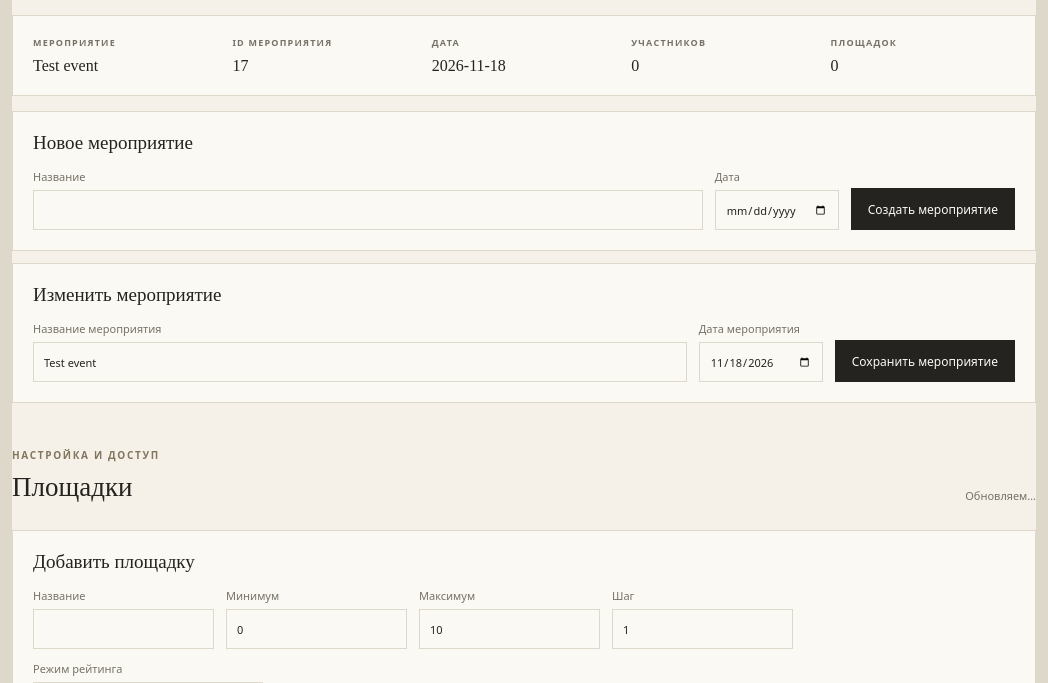
Test: WorkspacePage › allows a system administrator to update the selected event
(page scrolled)
Replace the text in the field labelled "Название мероприятия" with "Updated event" at {"x": 360, "y": 362}, box [33,342,687,382]
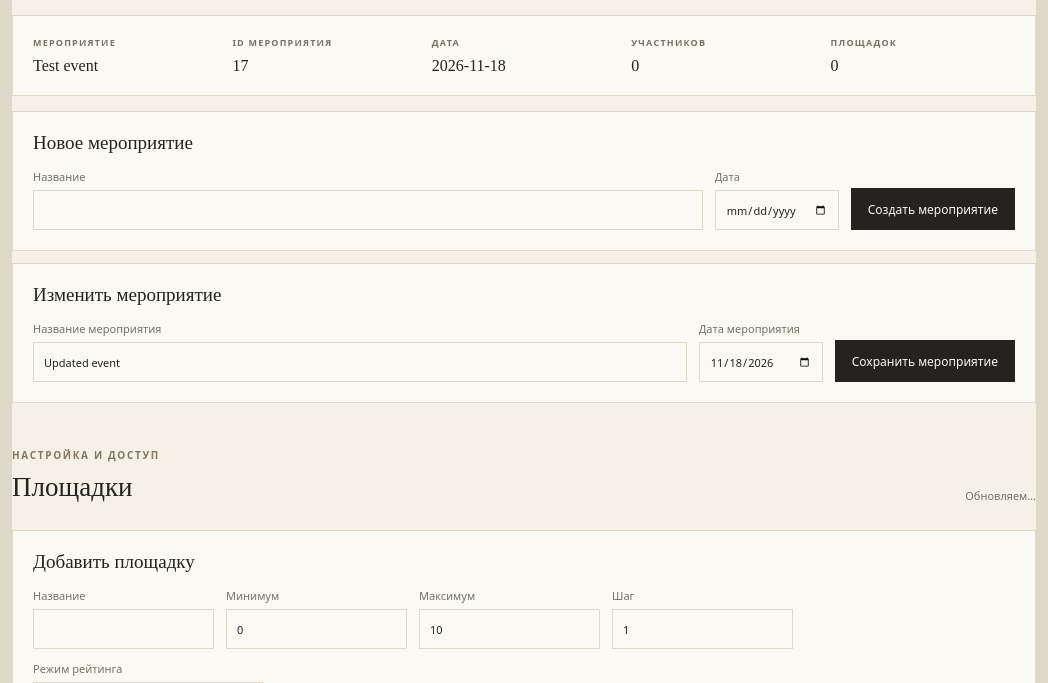
Submit the form "Сохранить мероприятие", box [12,263,1036,403]
(page scrolled)
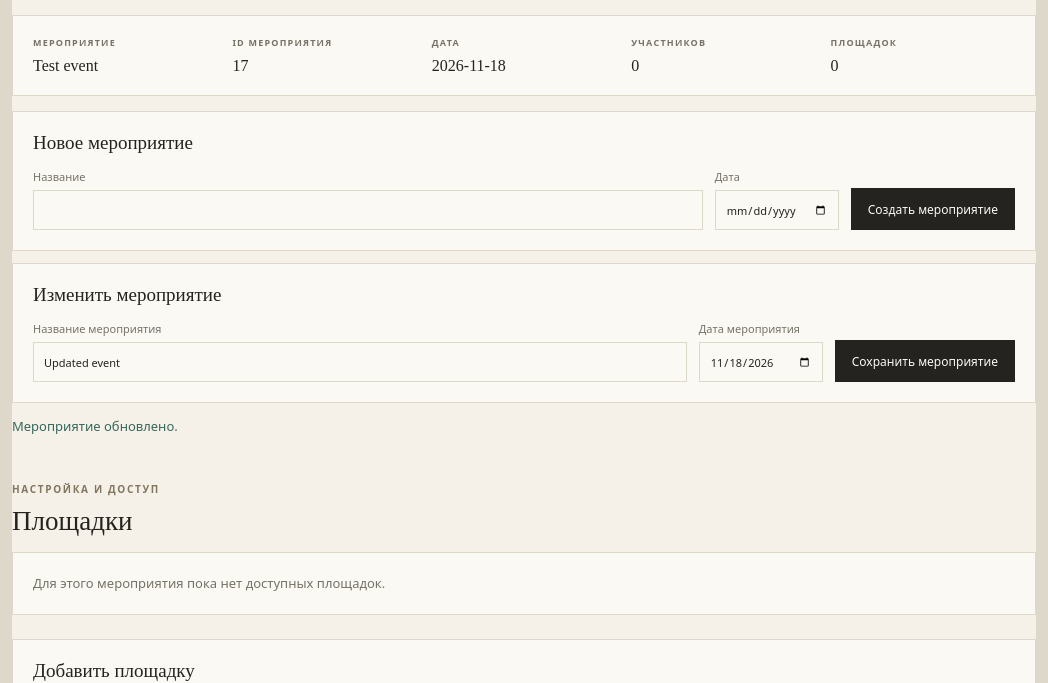
Result: the text "Мероприятие обновлено." is shown at [12,417,178,435]
